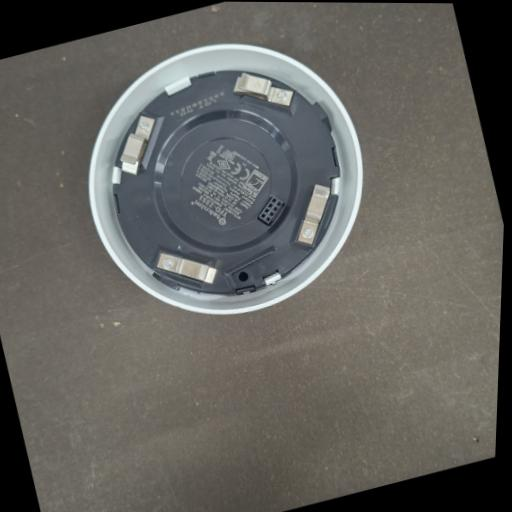yayli: (233, 72, 293, 106), (120, 116, 154, 175), (297, 184, 329, 244), (156, 252, 216, 283)
